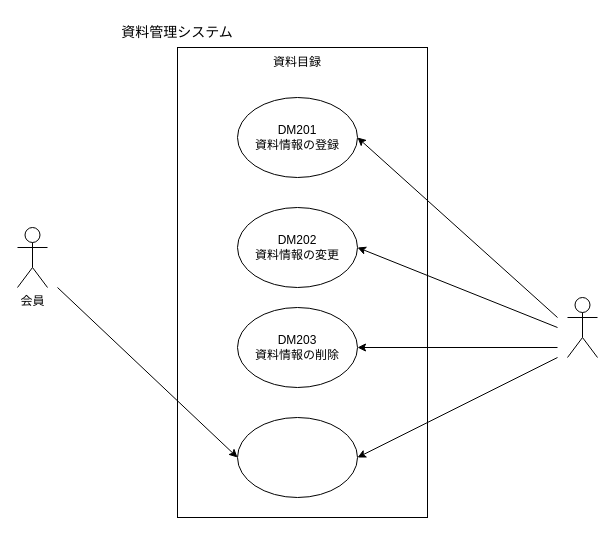
This 615x535 diagram has some shape labels left out. The shapes that lost their labels are listed below. From the top down, each one's centre as x and y in pixels, then its label:
At [582,327]: "司書".
At [297,457]: "DM304 資料在庫情報の検索".
